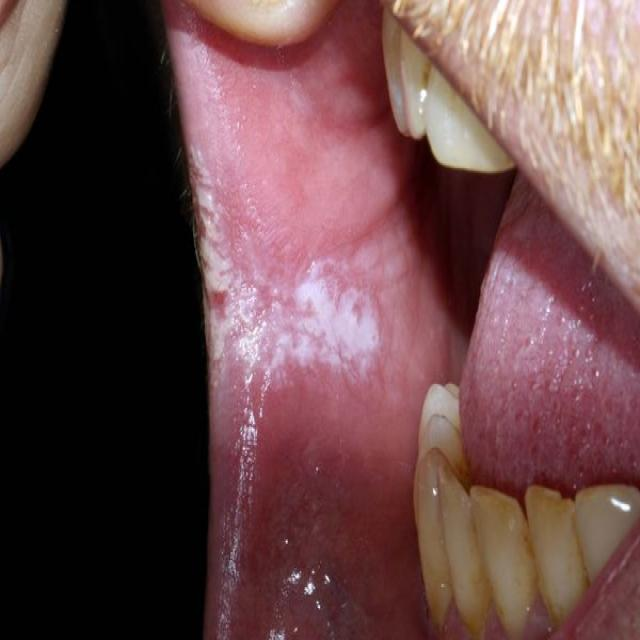leukoplakia-detection: (197, 130, 395, 416)
processing_area: (165, 0, 639, 638)
